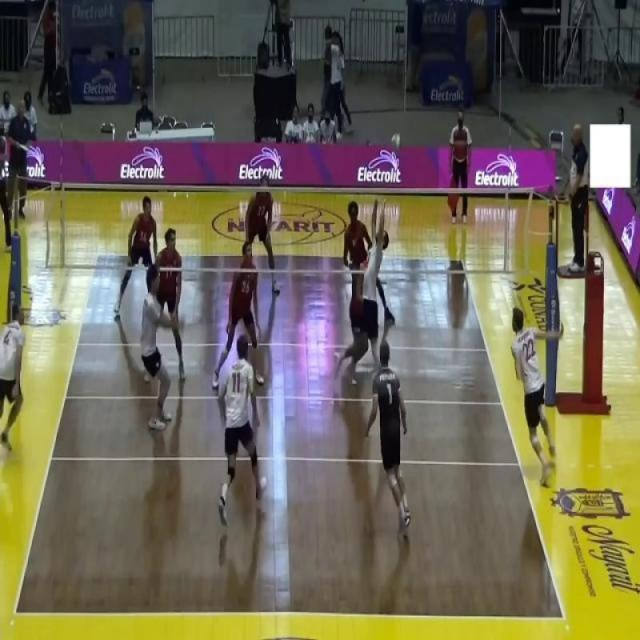volleyball: (391, 132, 402, 152)
